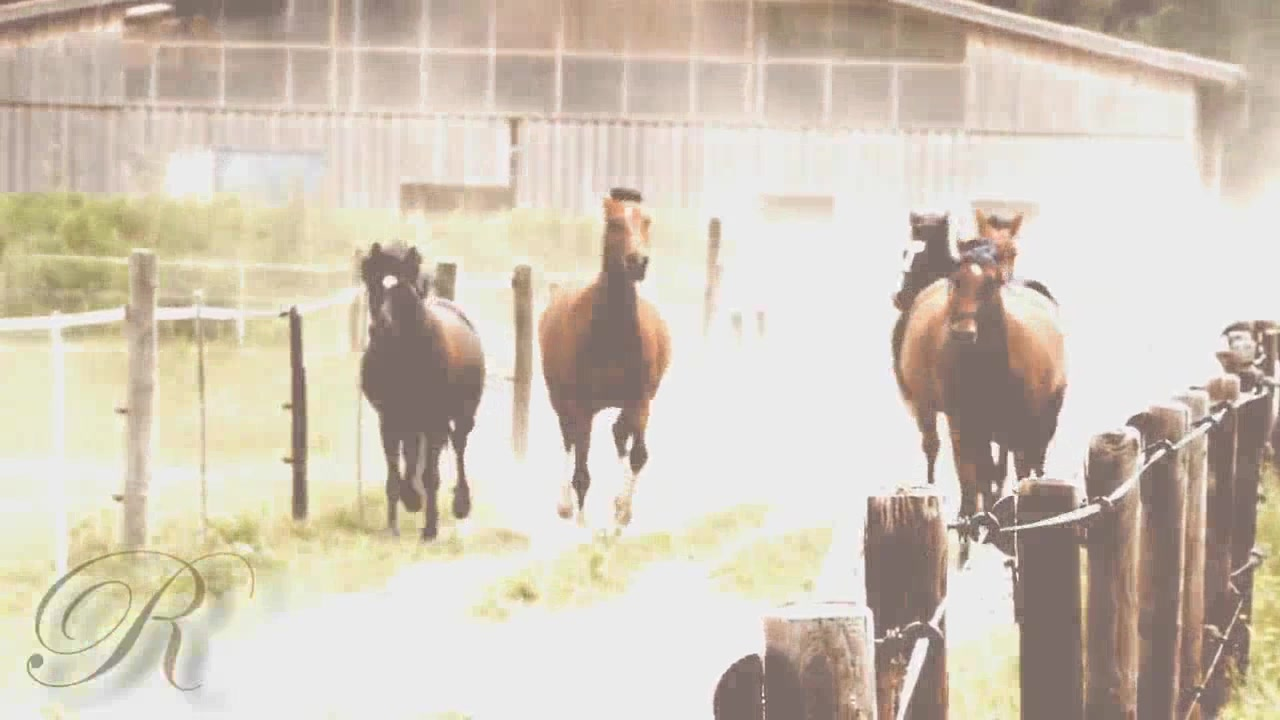horse: (897, 242, 1068, 555), (537, 188, 673, 534), (360, 241, 488, 542), (888, 207, 958, 384), (976, 208, 1058, 307)
